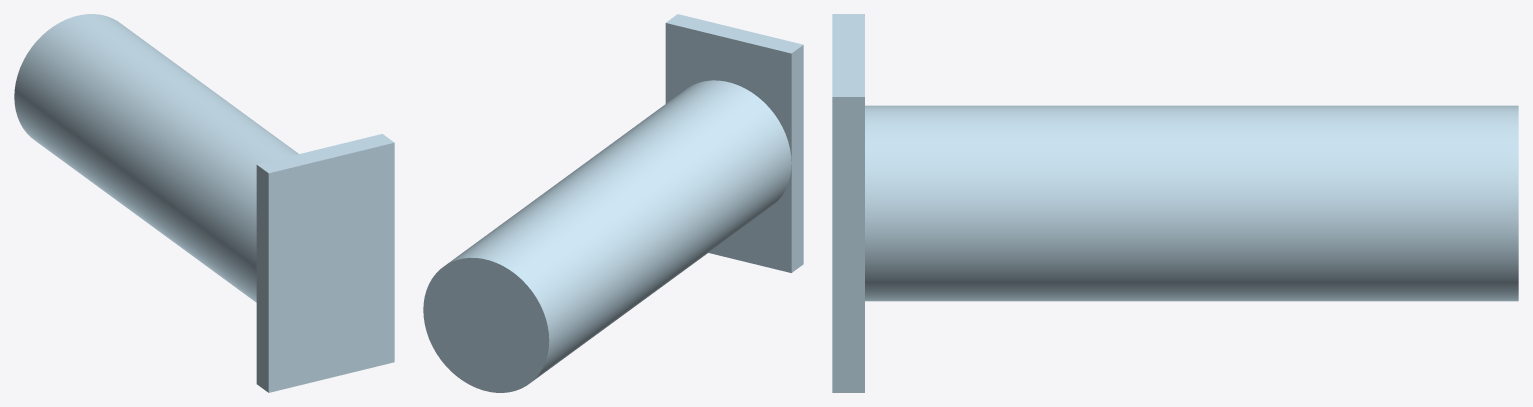
3 views of the same model, side by side, from view 1: azimuth 30°, elevation 25°; view 2: azimuth 150°, elevation 25°; view 3: azimuth 270°, elevation 25° (orthographic). The views are drawn at different scales.
Parts seen in each view (by area): view 1: mesh1705, mesh1712, mesh1708, mesh1710; view 2: mesh1705, mesh1704, mesh1706, mesh1707, mesh1708, mesh1710; view 3: mesh1705, mesh1709, mesh1710.
Part boxes in pixels (x1=…): mesh1705: x1=14, y1=14, x2=298, y2=302; mesh1712: x1=268, y1=142, x2=394, y2=392; mesh1708: x1=256, y1=165, x2=268, y2=392; mesh1710: x1=257, y1=134, x2=393, y2=173; mesh1705: x1=446, y1=80, x2=791, y2=381; mesh1704: x1=423, y1=257, x2=549, y2=392; mesh1706: x1=665, y1=23, x2=791, y2=161; mesh1707: x1=708, y1=164, x2=791, y2=272; mesh1708: x1=791, y1=45, x2=803, y2=272; mesh1710: x1=666, y1=14, x2=803, y2=53; mesh1705: x1=865, y1=105, x2=1518, y2=301; mesh1709: x1=832, y1=97, x2=864, y2=392; mesh1710: x1=832, y1=14, x2=864, y2=96.
Size of the model in its own units: 0.06 by 0.1 by 0.21.
